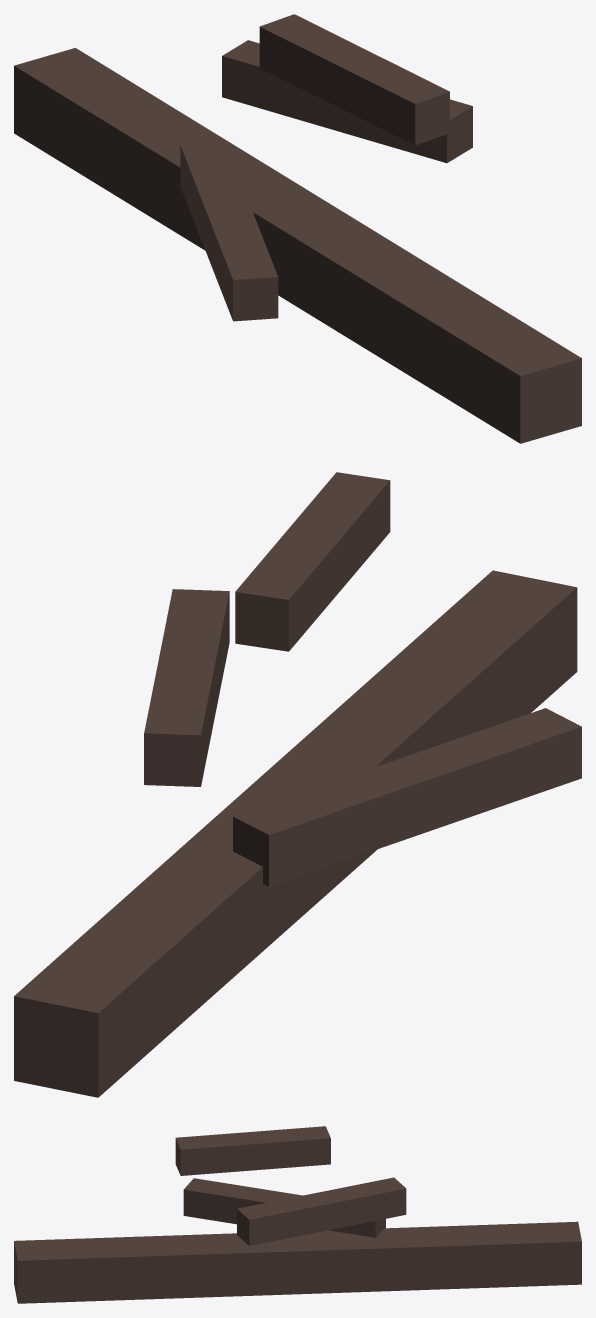
Rendered from EXTW_EastTree_02.glb.
The picture shows the model from 3 angles, top to bottom: view 1: azimuth 30°, elevation 25°; view 2: azimuth 150°, elevation 25°; view 3: azimuth 270°, elevation 25°; orthographic projection. The views are drawn at different scales.
Parts seen in each view (by area): view 1: EXTW_EastTree_02; view 2: EXTW_EastTree_02; view 3: EXTW_EastTree_02.
Boxes of the visible parts, x1,y1,x2,y2 form: EXTW_EastTree_02: (14,14,581,443); EXTW_EastTree_02: (14,472,581,1097); EXTW_EastTree_02: (14,1126,581,1303).
Size of the model in its own units: 0.7892 by 0.641 by 2.16.
